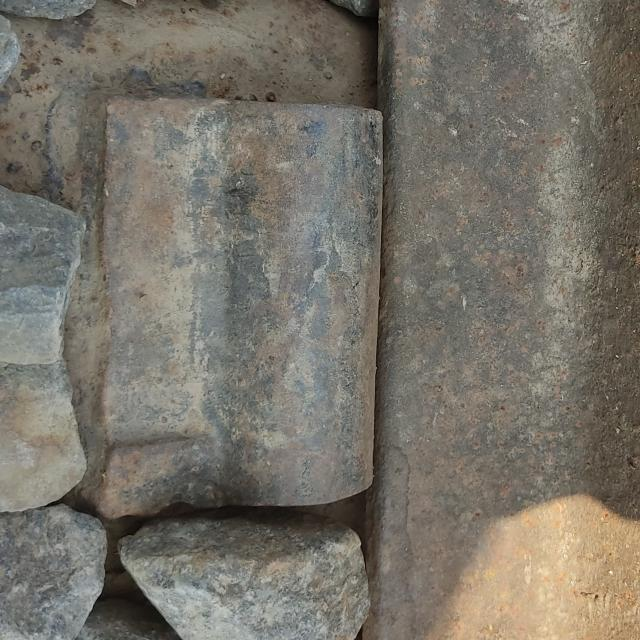track_bolt_missing: (212, 96, 390, 513)
